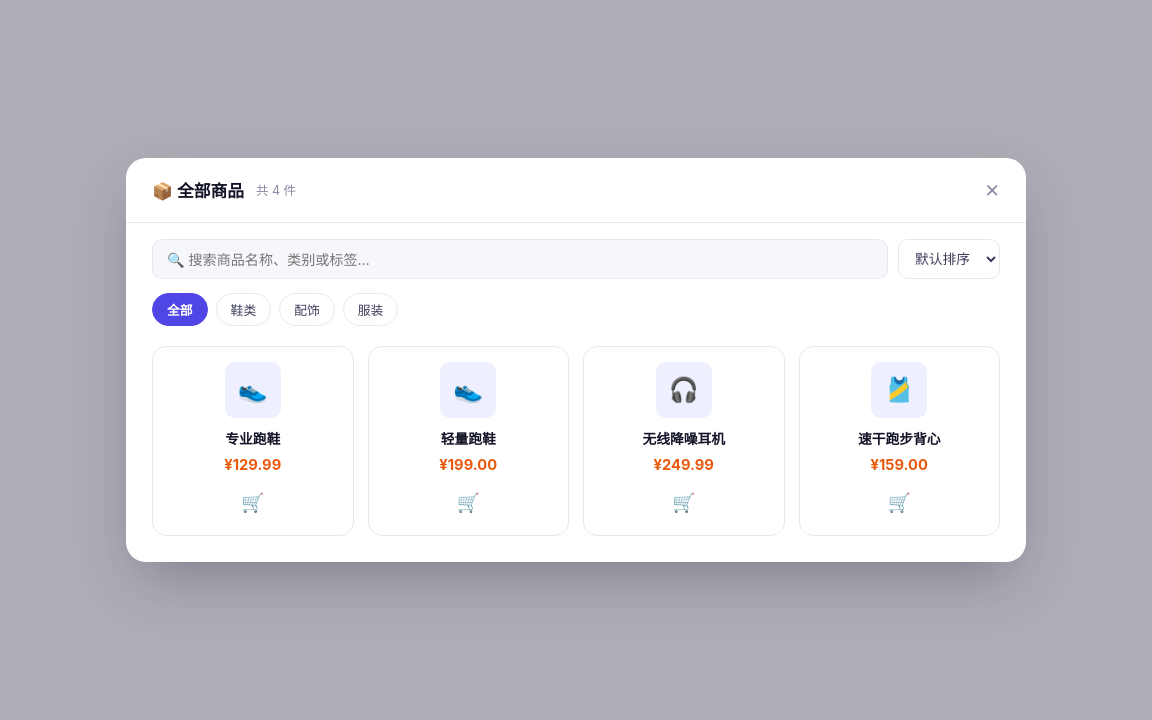
搜索 / 类别 / 排序（R11-6 / R11-7 / R11-8） › R11-10 / R11-11 无匹配 → 空态 + 计数 0 + 上一次的商品卡被整体清除
Expected: the button "专业跑鞋" is shown, [168,428,338,448]
Click the button "鞋类".
click(243, 310)  # box [216,293,271,326]
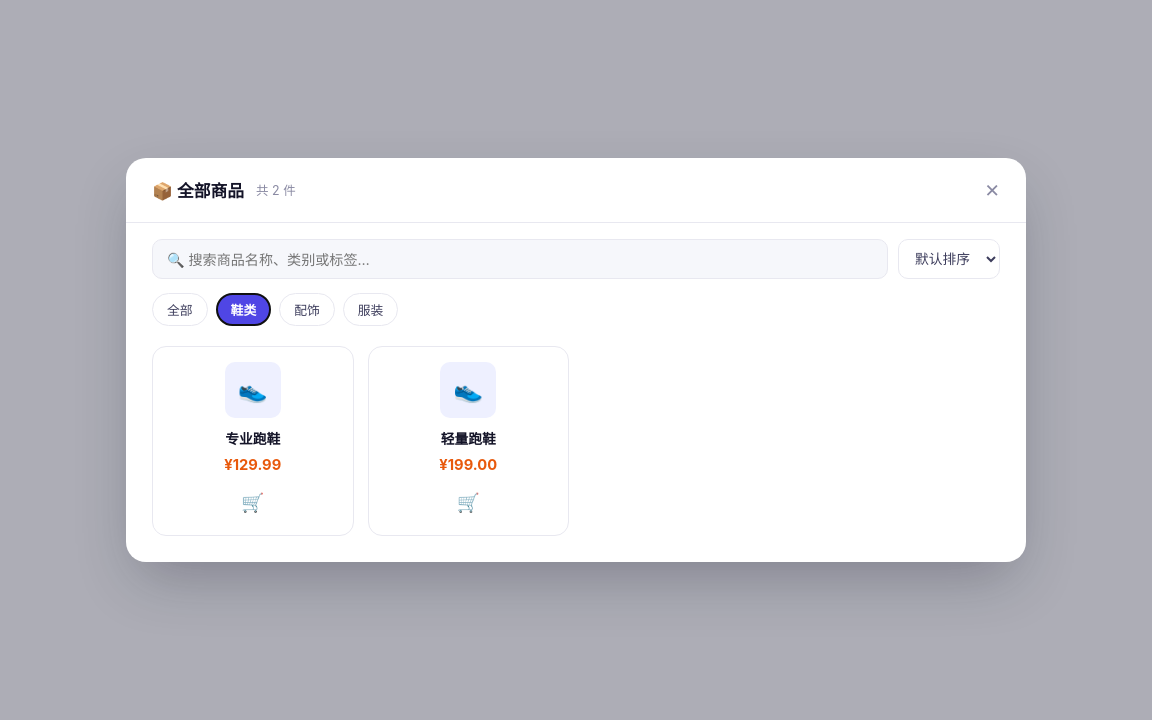
Type "zzz" into the search field labelled "搜索商品".
click(520, 259); type("zzz")  # box [152,239,888,279]
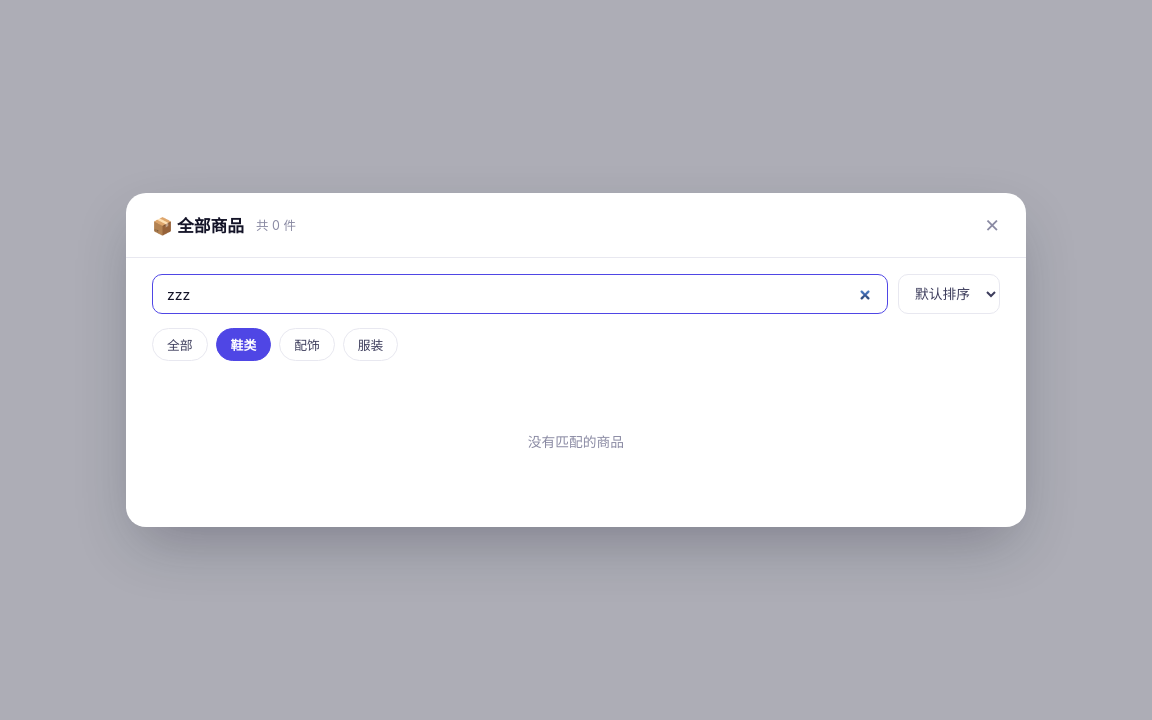
Now the text "没有匹配的商品" is shown, box [528,434,624,450]
Now the text "共 0 件" is shown, box [256,216,296,234]
Now the button "专业跑鞋" is gone
